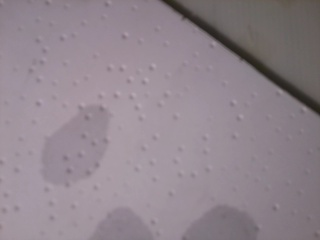Water_detected: (50, 108, 108, 179), (182, 201, 221, 240), (97, 212, 139, 240)
